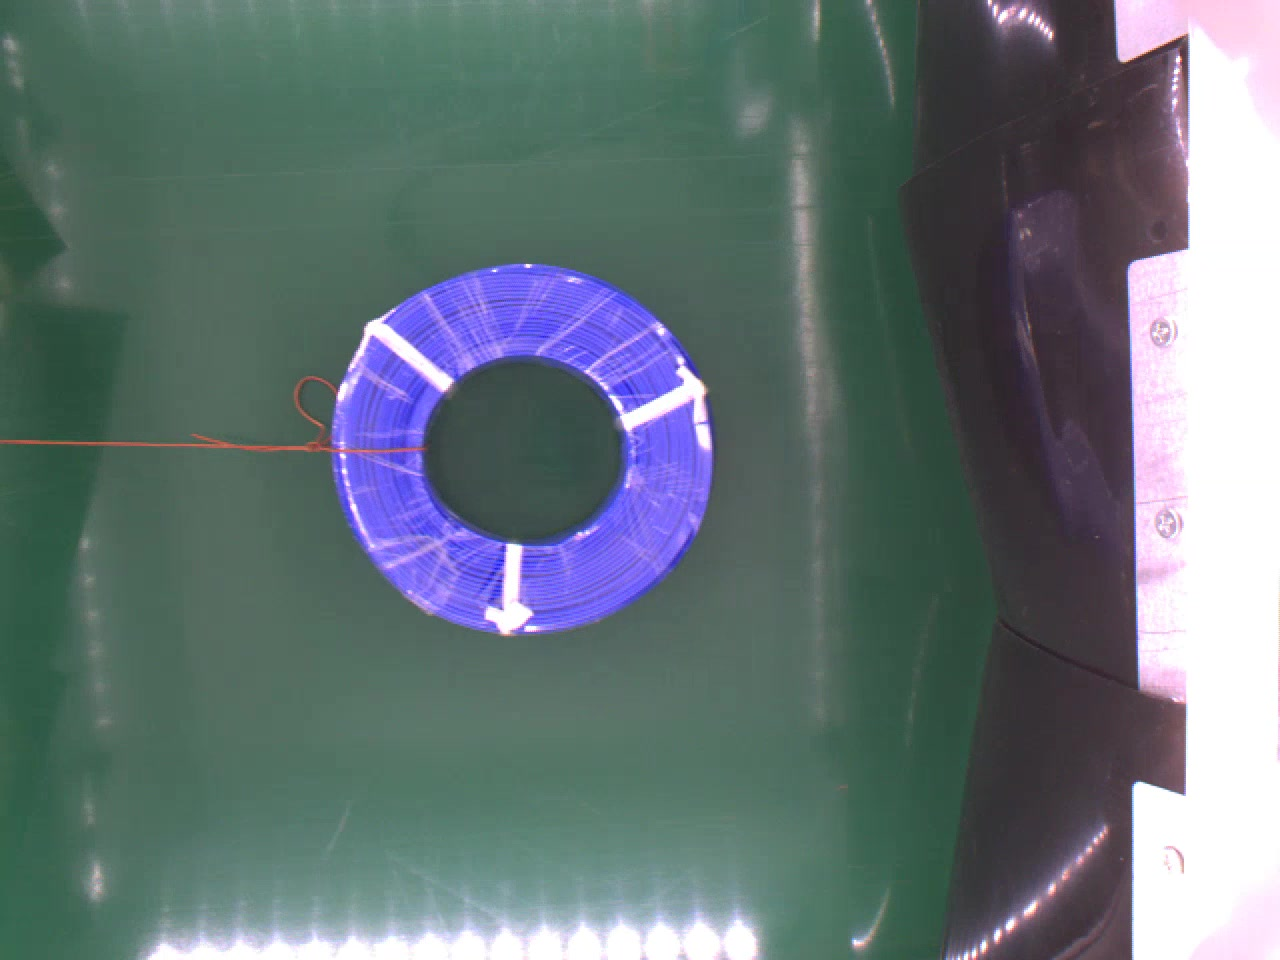blue: (330, 258, 722, 635)
